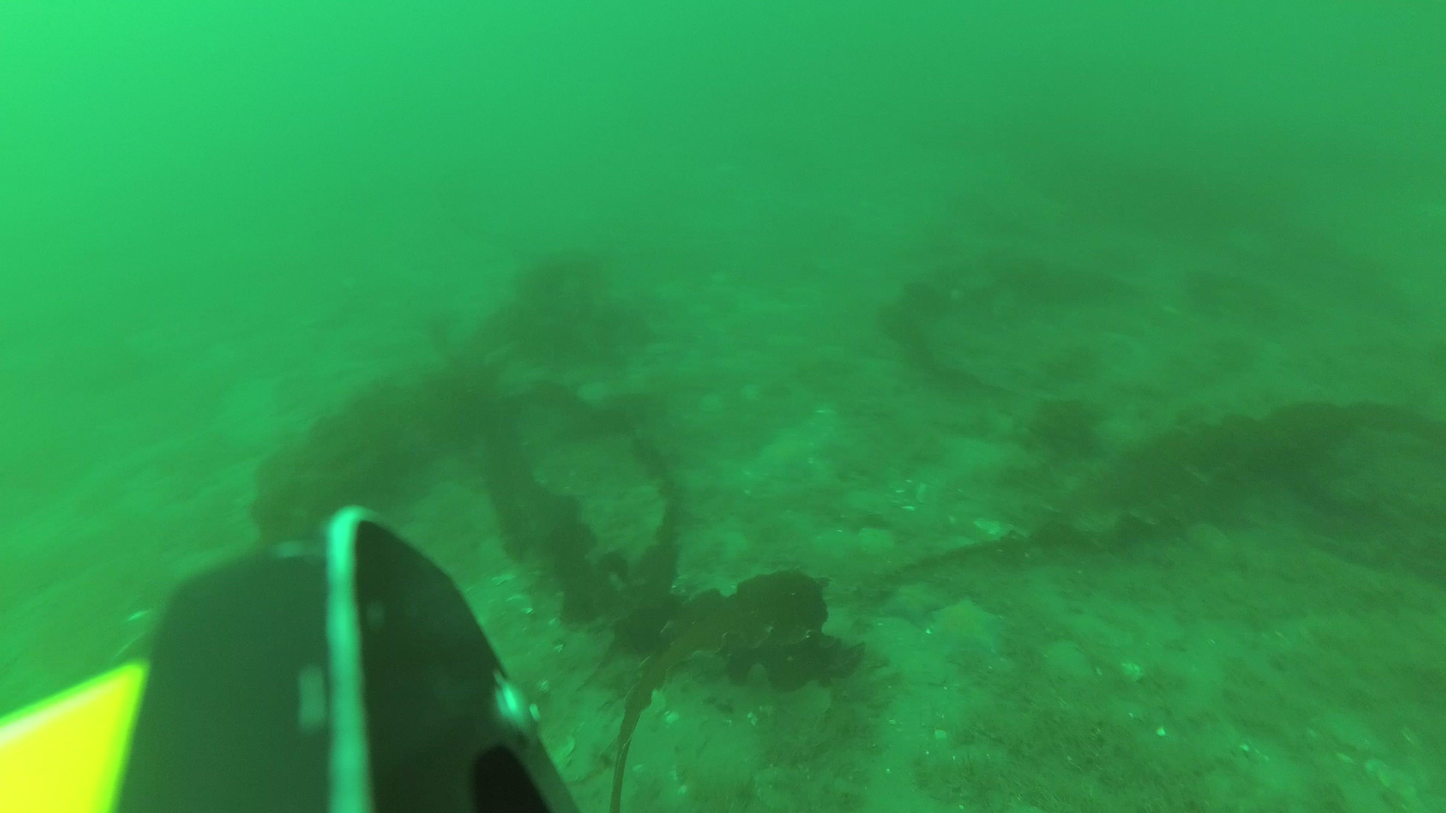holothurian: (930, 595, 1003, 661), (755, 428, 820, 486), (882, 573, 947, 630)
scallop: (776, 678, 840, 726)
